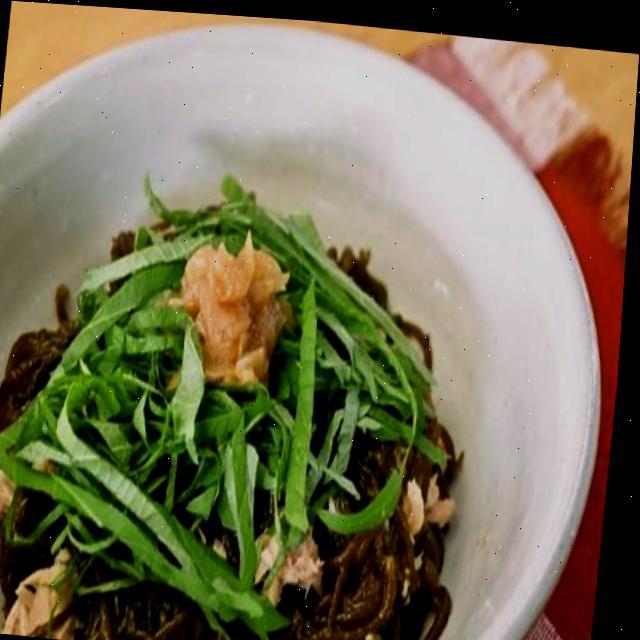蔬菜料理: (0, 22, 618, 640)
